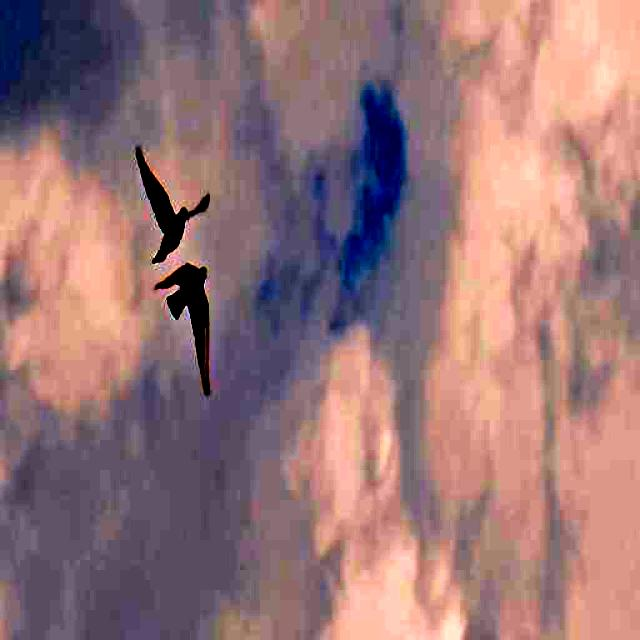airplane: (151, 238, 226, 420), (122, 136, 221, 262)
